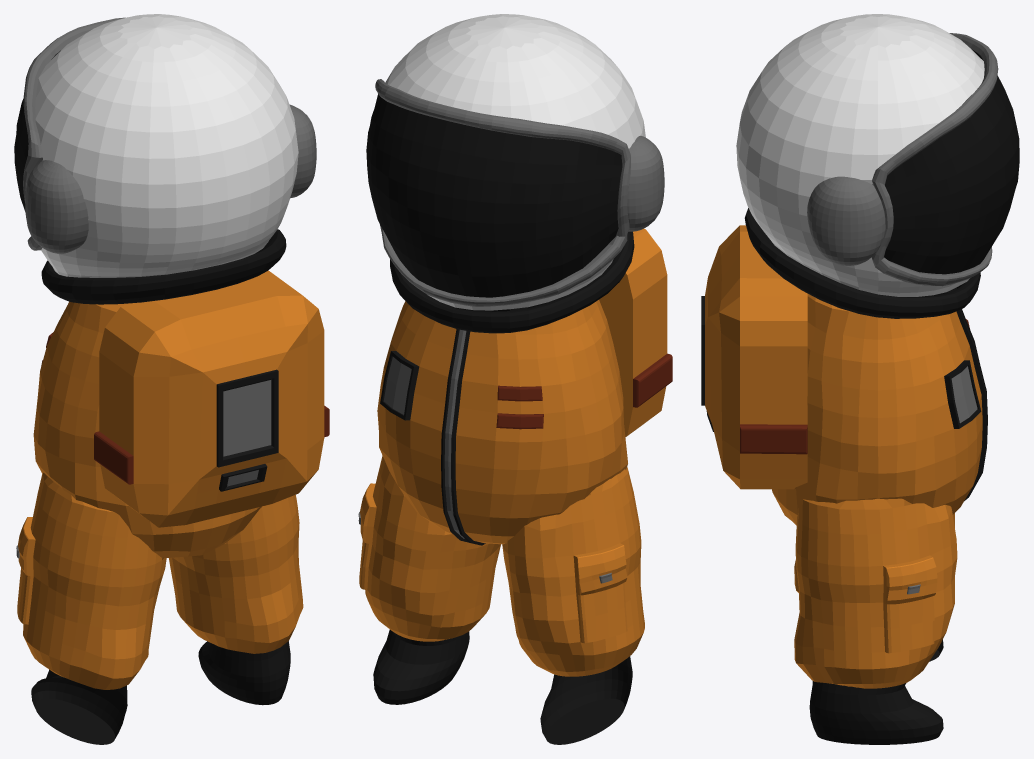
File: Astronaut.glb
3 views of the same model, side by side, from view 1: azimuth 30°, elevation 25°; view 2: azimuth 150°, elevation 25°; view 3: azimuth 270°, elevation 25° (orthographic).
Parts seen in each view (by area): view 1: Sphere; view 2: Sphere; view 3: Sphere.
Part boxes in pixels (x1,y1,x2,y2): Sphere: (14,14,329,744); Sphere: (358,14,672,744); Sphere: (701,14,1019,744).
Size of the model in its own units: 0.6362 by 1.47 by 0.6374.
